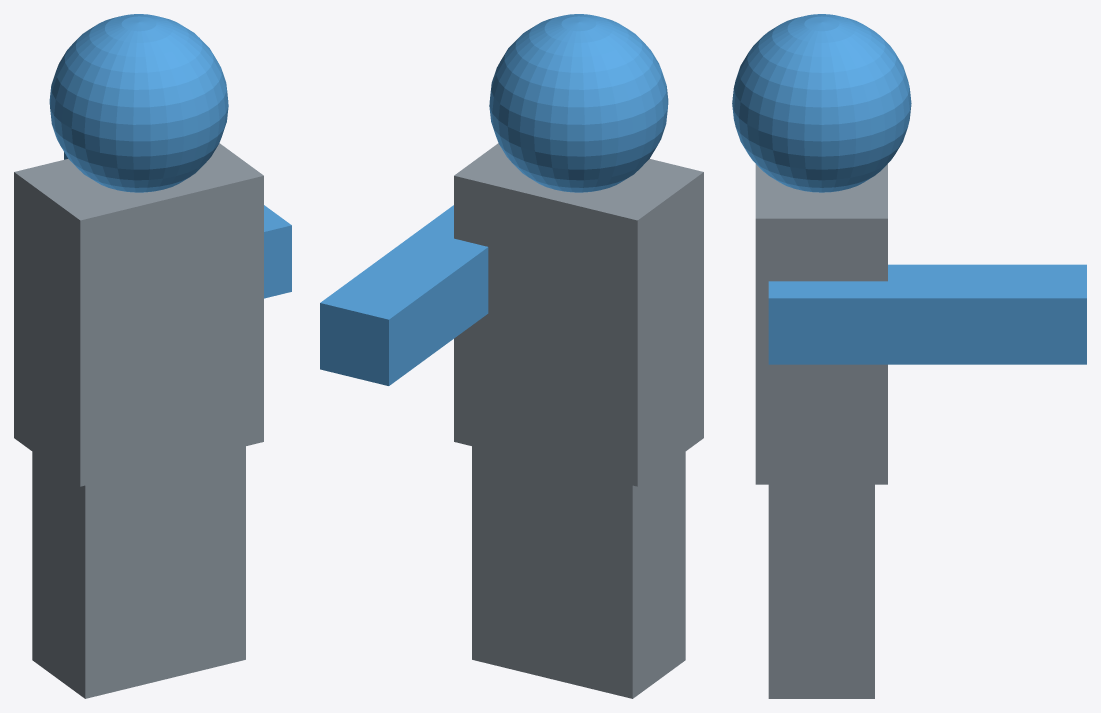
The model's file is AL_FrostlineSpecialist_LOD0.glb.
3 views of the same model, side by side, from view 1: azimuth 30°, elevation 25°; view 2: azimuth 150°, elevation 25°; view 3: azimuth 270°, elevation 25° (orthographic).
Parts seen in each view (by area): view 1: Head; view 2: Head; view 3: Head.
Boxes of the visible parts, x1,y1,x2,y2 form: Head: [14, 14, 291, 698]; Head: [320, 14, 703, 698]; Head: [732, 14, 1086, 698].
Bounding box in the file's own units: 61.75 × 172 × 87.
